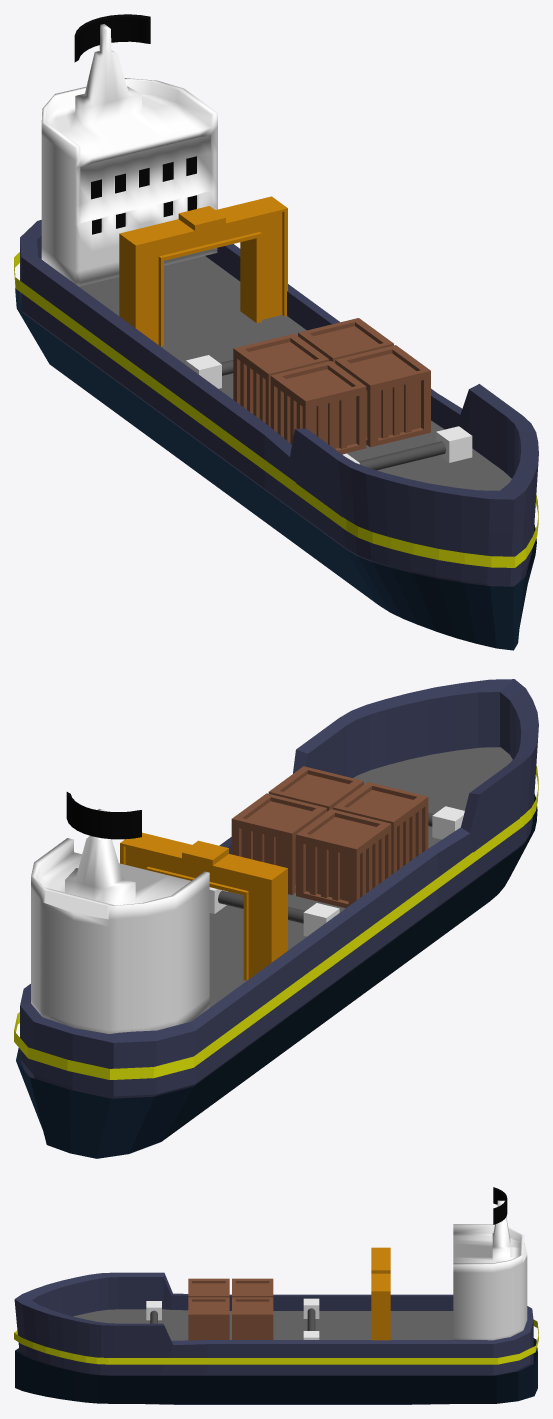
Rendered from Transport.glb.
3 views of the same model, one above another, from view 1: azimuth 30°, elevation 25°; view 2: azimuth 150°, elevation 25°; view 3: azimuth 270°, elevation 25° (orthographic). The views are drawn at different scales.
Parts seen in each view (by area): view 1: Transport; view 2: Transport; view 3: Transport.
Boxes of the visible parts, bbox=[...] form: Transport: bbox=[14, 14, 538, 650]; Transport: bbox=[14, 679, 538, 1158]; Transport: bbox=[14, 1187, 538, 1404].
Size of the model in its own units: 0.7933 by 1.39 by 3.32.
